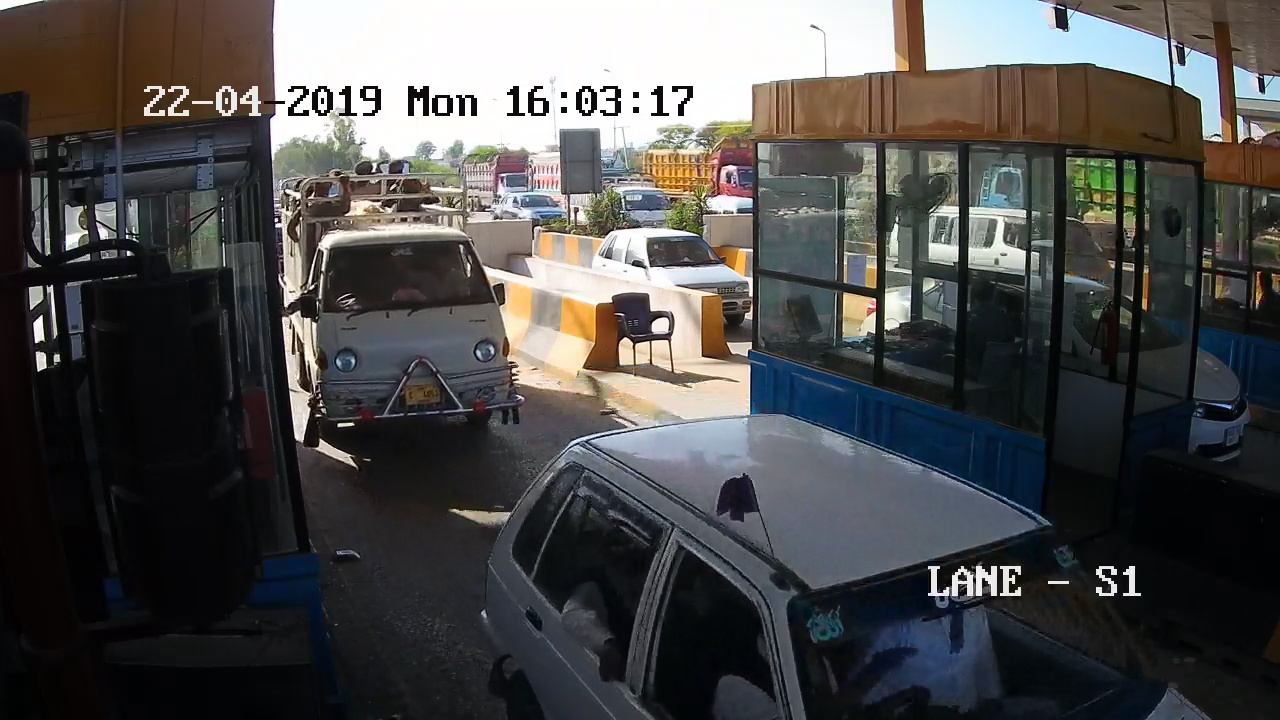Number Plate (Car): (403, 386, 443, 407)
